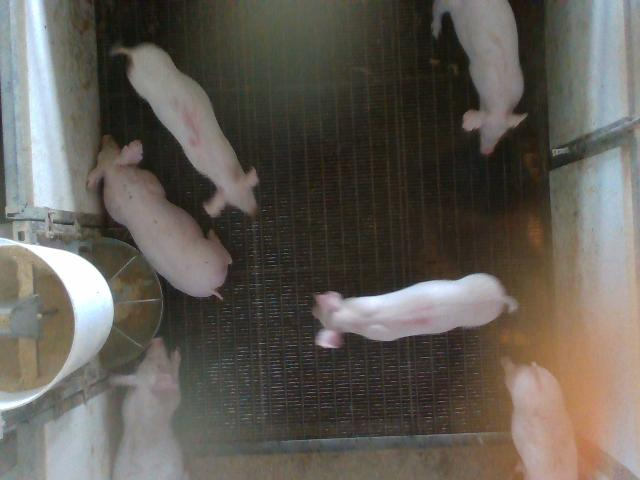pig-4: (312, 274, 518, 348)
pig-5: (112, 42, 259, 216)
